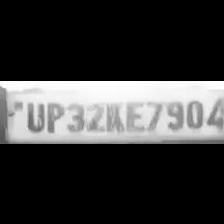0: (184, 96, 204, 128)
2: (85, 98, 105, 132)
3: (65, 98, 85, 132)
4: (204, 92, 222, 128)
7: (142, 96, 162, 130)
9: (162, 96, 184, 130)
E: (124, 96, 144, 130)
P: (44, 97, 64, 132)
U: (22, 96, 44, 132)
